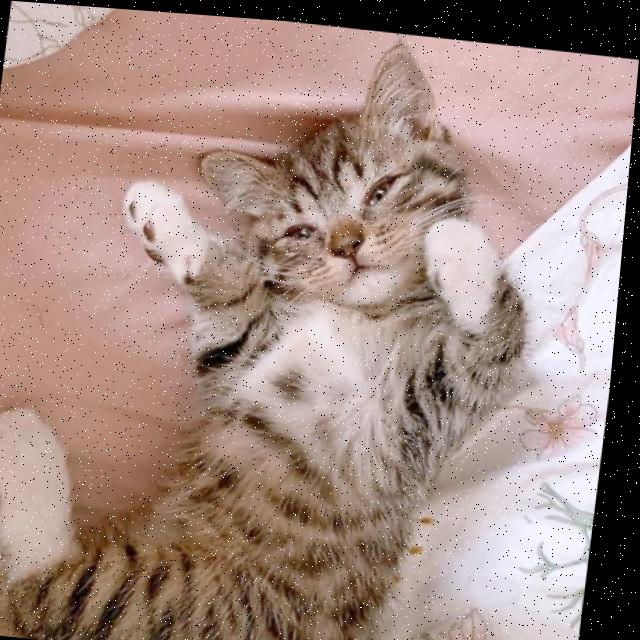Cats: (0, 4, 544, 640)
